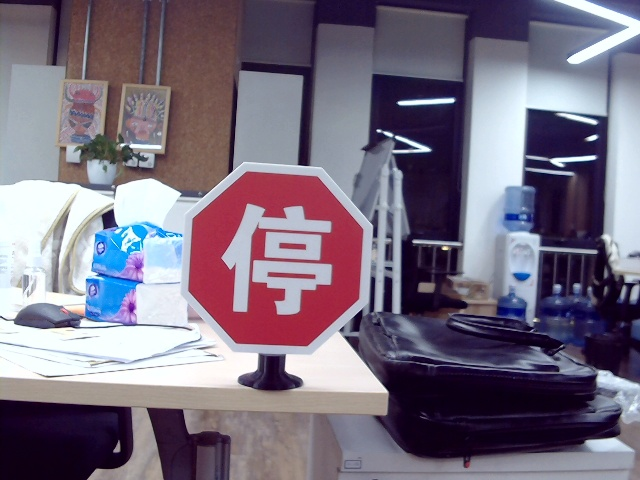stop: (223, 199, 332, 318)
